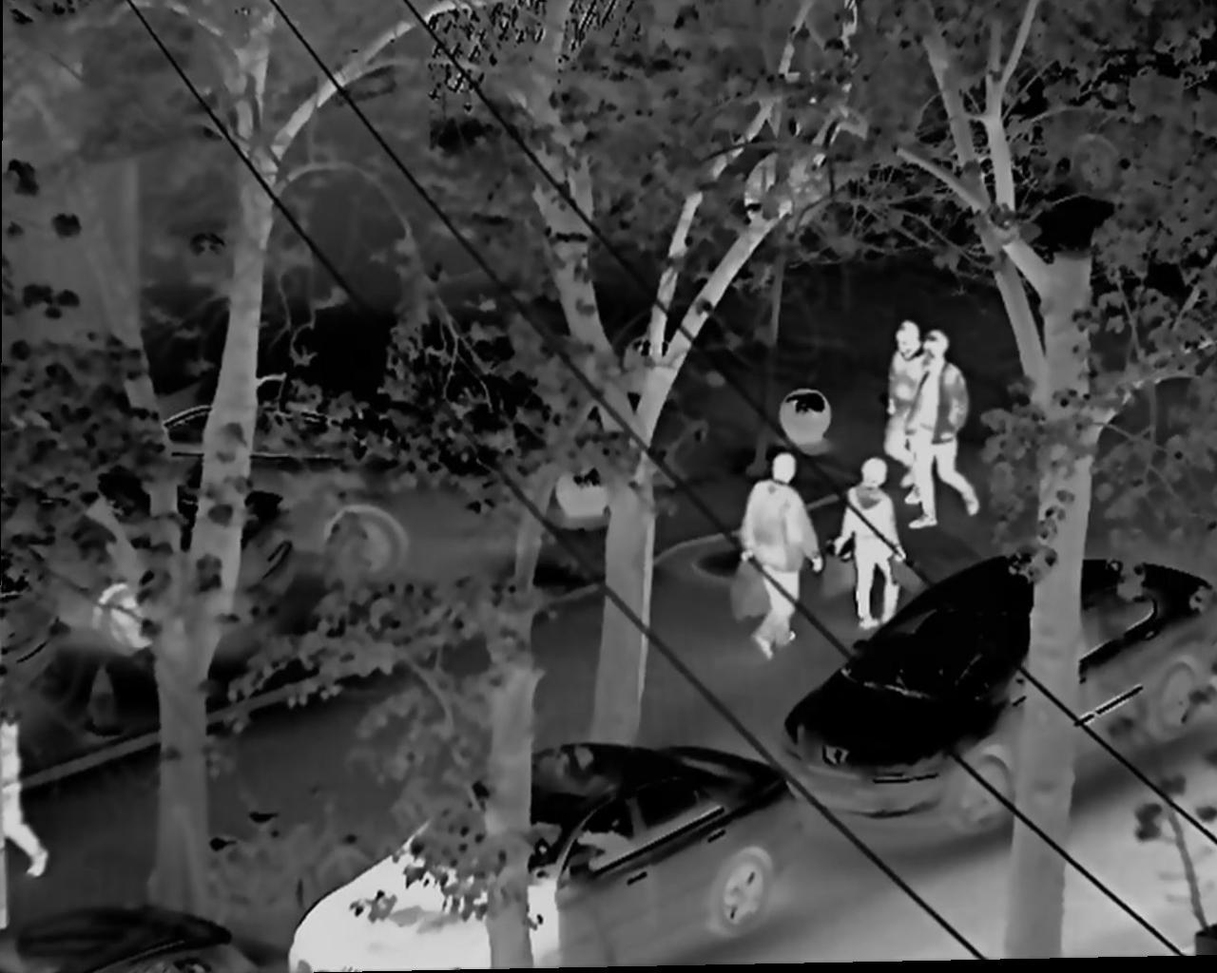person: (737, 447, 824, 657), (834, 454, 911, 631), (915, 334, 983, 528), (882, 316, 926, 487)
